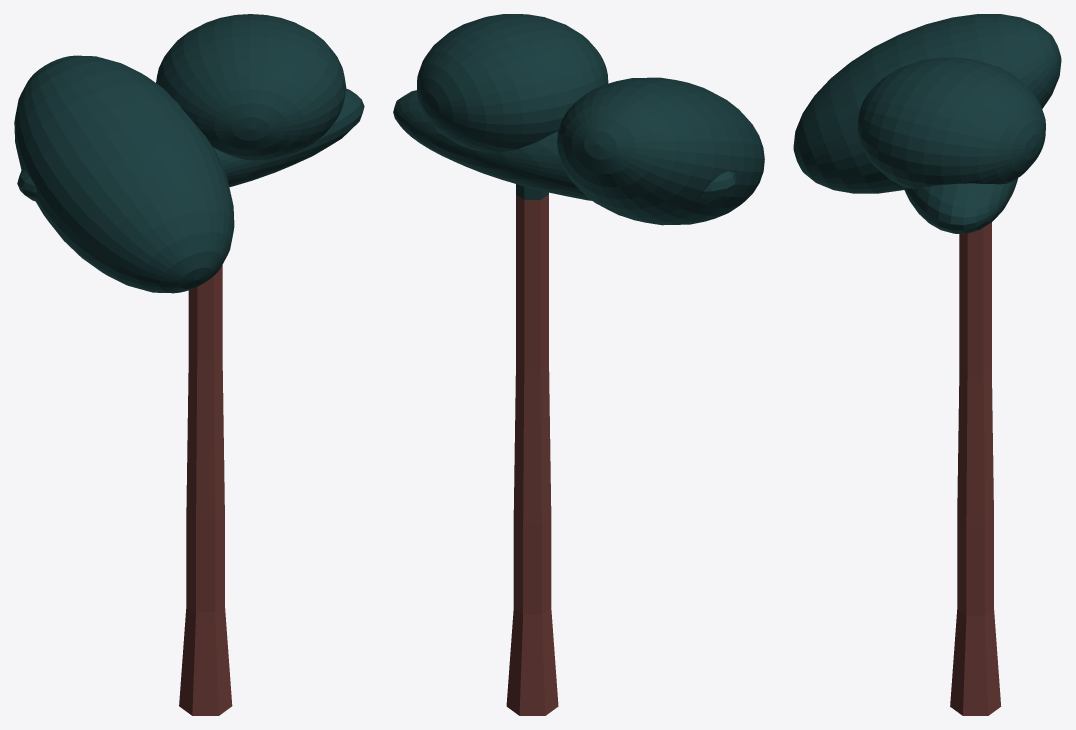
The model's file is Tree3.fbx.
3 views of the same model, side by side, from view 1: azimuth 30°, elevation 25°; view 2: azimuth 150°, elevation 25°; view 3: azimuth 270°, elevation 25° (orthographic). The views are drawn at different scales.
Visible parts, largest first — view 1: treeTrunk; view 2: treeTrunk; view 3: treeTrunk.
Boxes of the visible parts, <box> form: treeTrunk: <box>14,14,364,715</box>; treeTrunk: <box>393,14,764,715</box>; treeTrunk: <box>793,14,1061,715</box>.
Size of the model in its own units: 864 by 1636 by 609.
